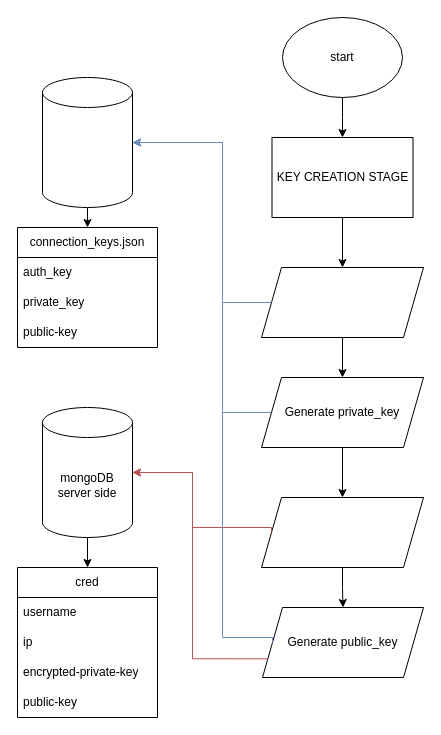
This 441x735 diagram has some shape labels left out. Each missing label, with the centre of its shape:
Encrypt with auth_key: point 342,532
Generate auth_key: point 342,302
user local database(json): point 87,142
